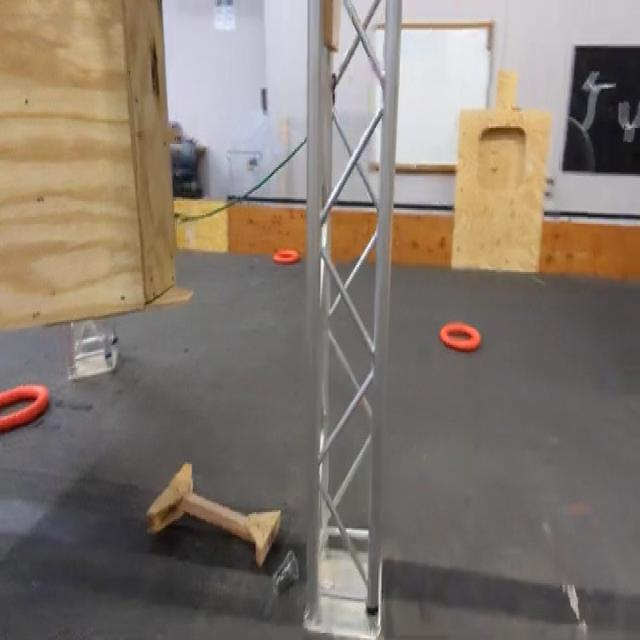note: (0, 383, 50, 436), (438, 322, 480, 354), (272, 247, 299, 265)
